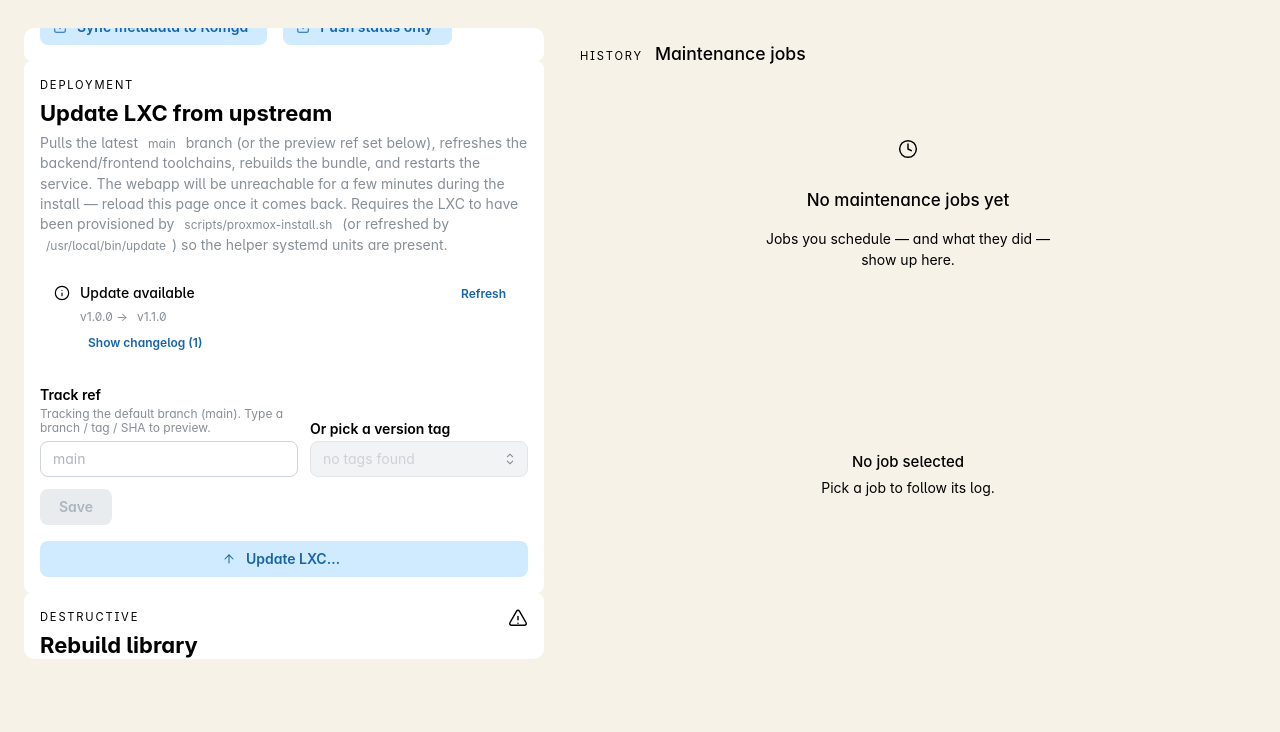
it: MaintenancePanel › surfaces 'update available' banner with version delta when behind is true
(page scrolled)
Expected: the text "Update available" is shown, [80,283,195,303]
Note: Expand the changelog and confirm the release title surfaces.
What coordinates should you click on to do the following:
click the button "Show changelog (1)"
I would click on:
 (145, 343)
Its box is [80,332,210,354].
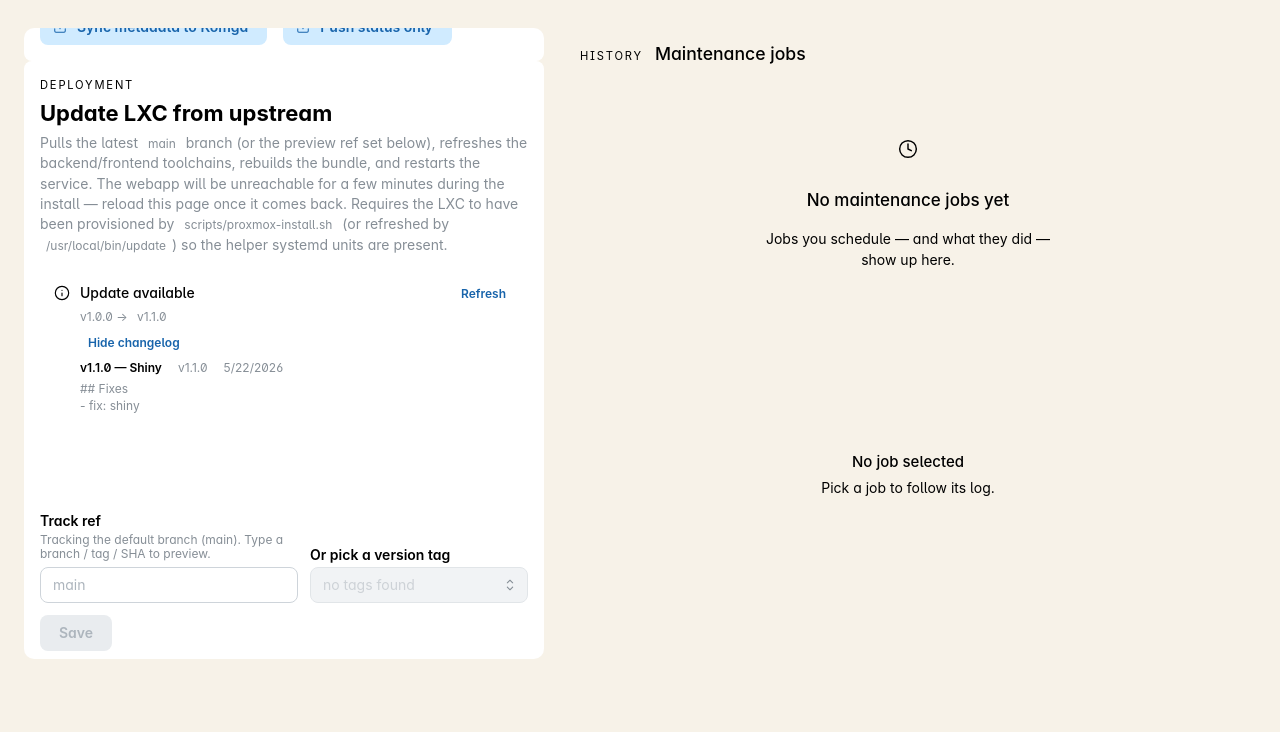
Expected: the text "v1.1.0 — Shiny" is shown, [80,360,162,377]
